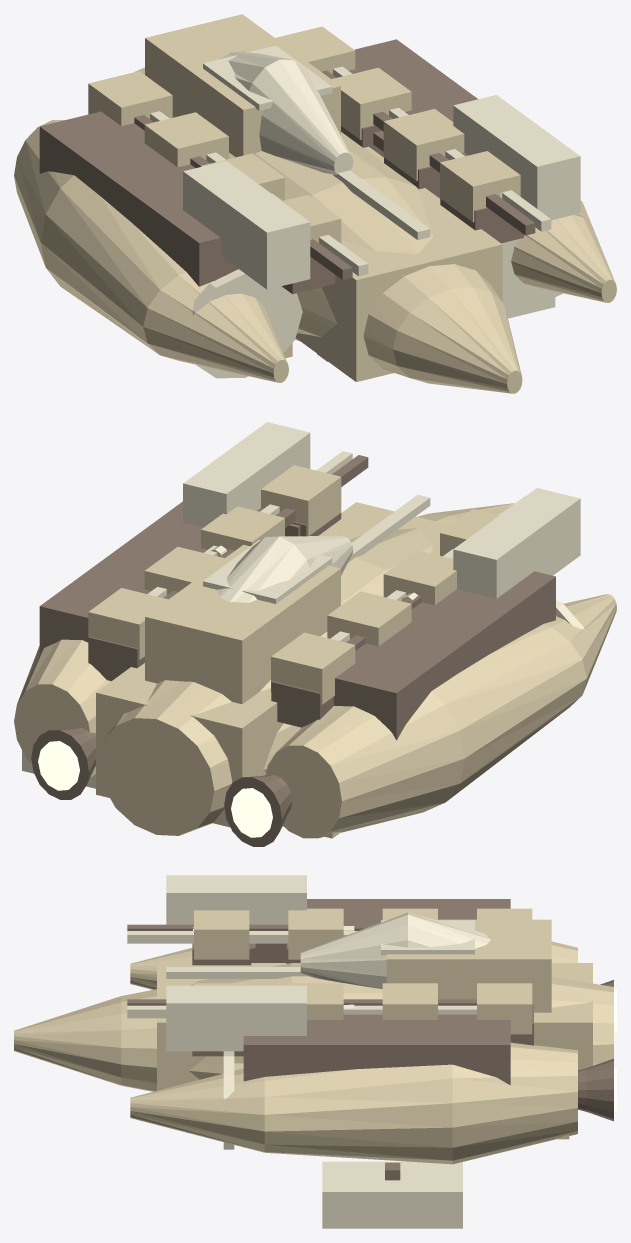
3 views of the same model, one above another, from view 1: azimuth 30°, elevation 25°; view 2: azimuth 150°, elevation 25°; view 3: azimuth 270°, elevation 25° (orthographic). The views are drawn at different scales.
Size of the model in its own units: 14.66 by 8.31 by 20.47.
